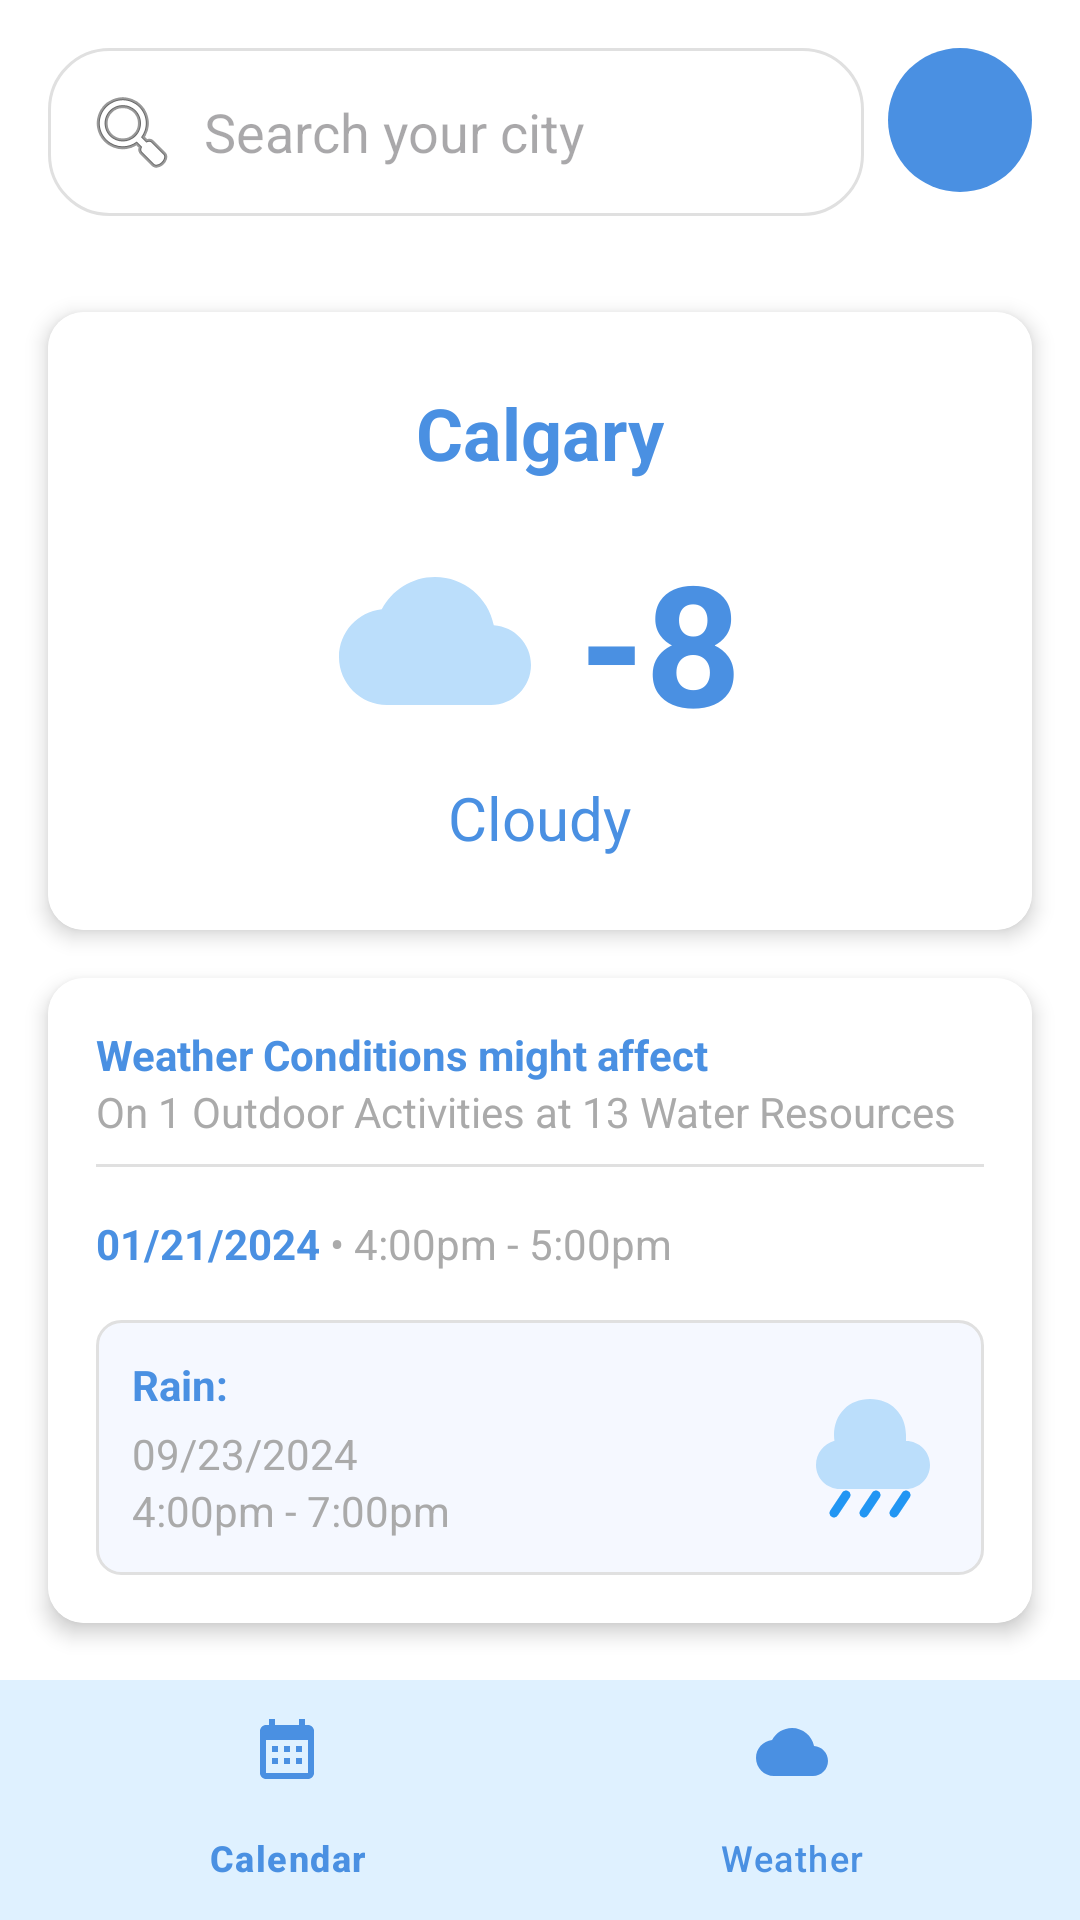

Where icons sit on this 1080w x 1920h app screen, as detection(x1, y1, x2, y2):
Rain Icon: detection(816, 1399, 930, 1518)
